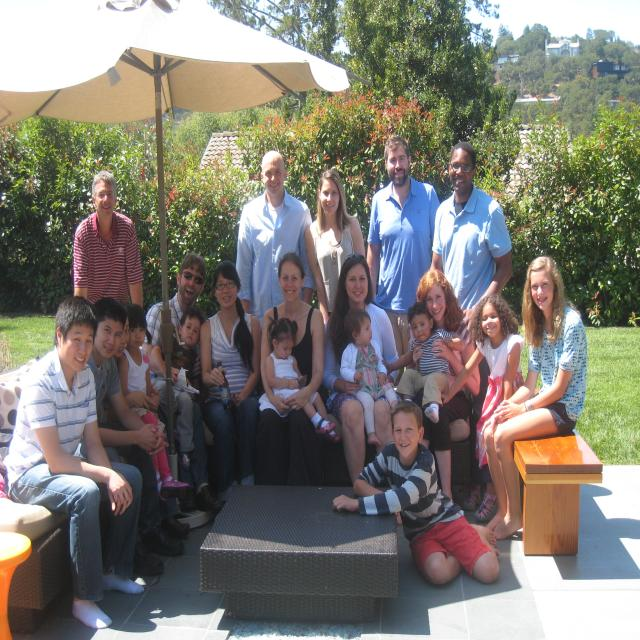body: (0, 291, 147, 634), (476, 252, 596, 545), (328, 396, 506, 590), (86, 296, 186, 578), (438, 291, 527, 523), (144, 250, 220, 515), (365, 134, 441, 387), (424, 140, 516, 335), (324, 252, 400, 487), (197, 258, 264, 514), (411, 268, 482, 507), (255, 252, 325, 487), (234, 150, 317, 334), (120, 302, 190, 505), (261, 314, 343, 448), (70, 168, 146, 309), (381, 300, 463, 424), (304, 168, 366, 327), (150, 304, 205, 472), (340, 306, 400, 447), (116, 300, 134, 358)
